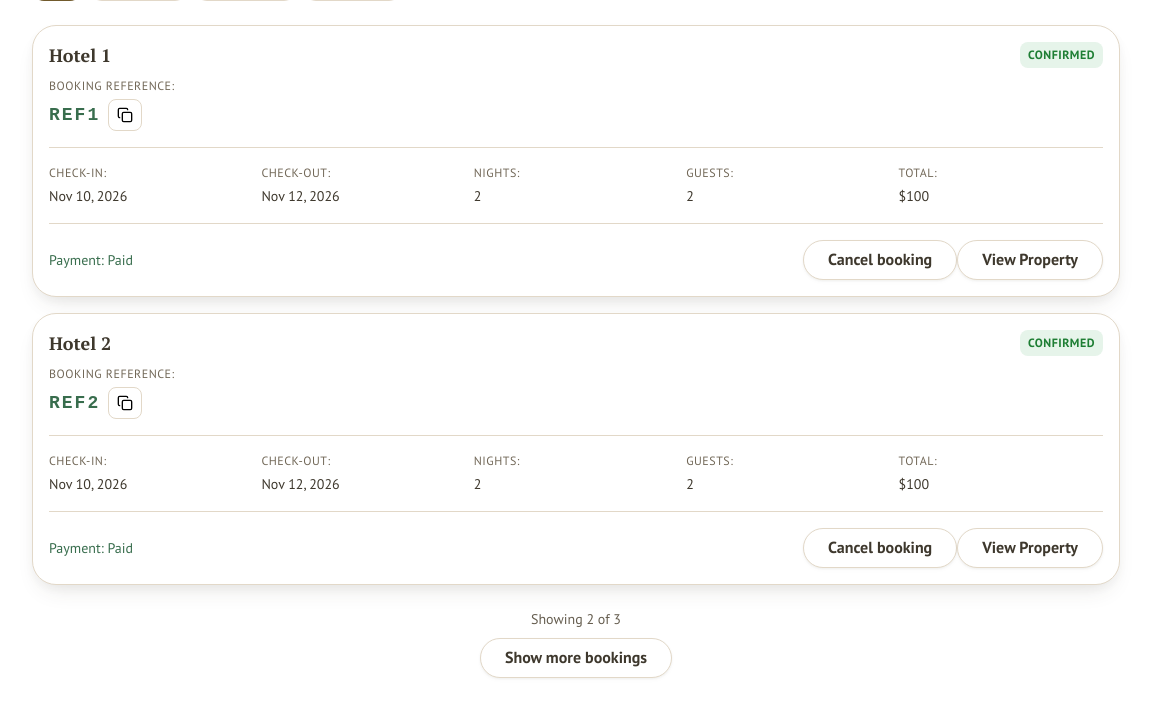
Test: BookingsPage pages › shows a booking that moved to the next page only once
The width and height of the screenshot is (1152, 710).
(page scrolled)
Expected: the link "Hotel 1" is shown, [49,43,111,67]
Click the button "Show more bookings" at (576, 658), box [480,638,672,678]
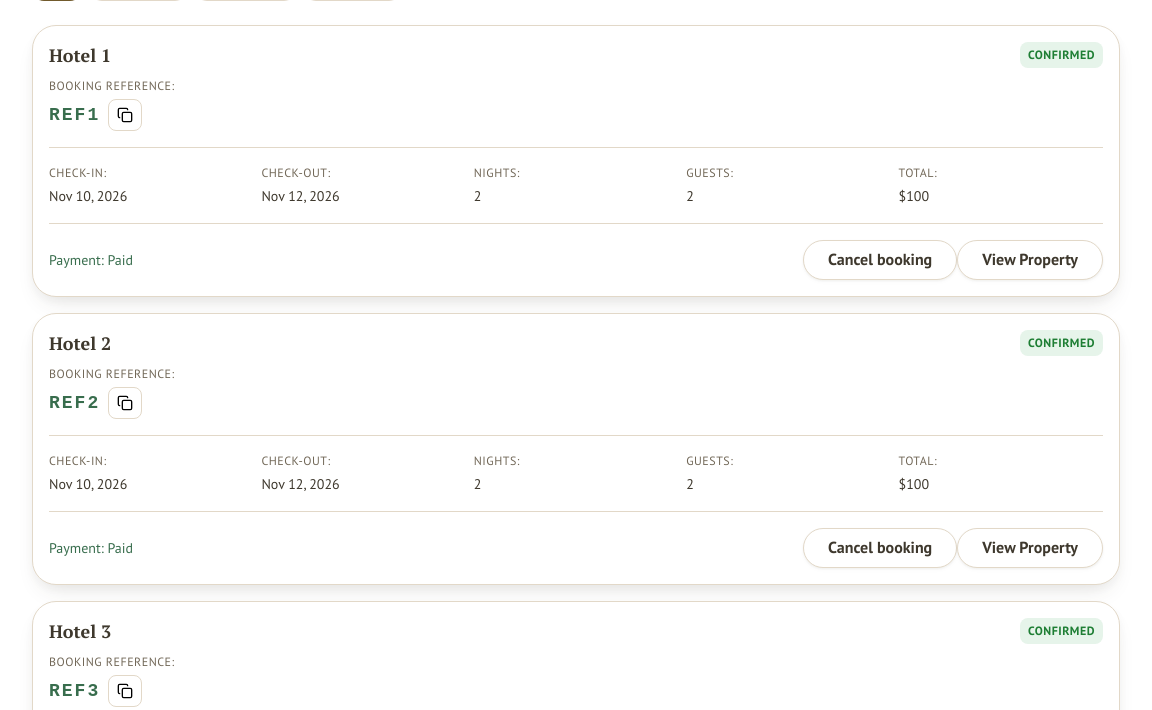
Expected: the number of links "Hotel 2" is 1, [49,331,111,355]
Result: the link "Hotel 3" is shown at [49,619,111,643]
